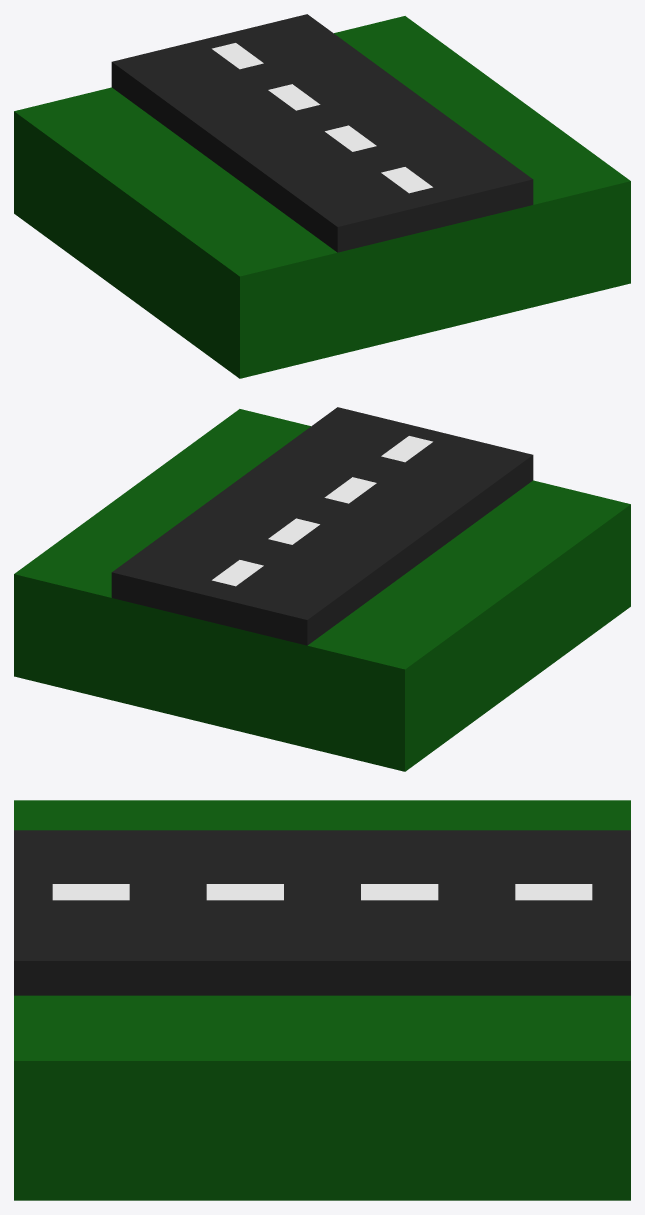
The model's file is road.obj.
3 renders of one model, top to bottom at view 1: azimuth 30°, elevation 25°; view 2: azimuth 150°, elevation 25°; view 3: azimuth 270°, elevation 25°, orthographic. The views are drawn at different scales.
Parts seen in each view (by area): view 1: grass, road, plane; view 2: grass, road, plane; view 3: grass, road, plane.
Boxes of the visible parts, left/top/right/bottom form: grass: left=14, top=16, right=630, bottom=378; road: left=111, top=14, right=533, bottom=252; plane: left=212, top=43, right=432, bottom=193; grass: left=14, top=409, right=630, bottom=771; road: left=111, top=407, right=533, bottom=645; plane: left=212, top=436, right=432, bottom=586; grass: left=14, top=800, right=630, bottom=1200; road: left=14, top=830, right=630, bottom=995; plane: left=52, top=884, right=592, bottom=900.
Bounding box in the file's own units: 1 × 0.3187 × 1.
3 materials, 3 textured.
